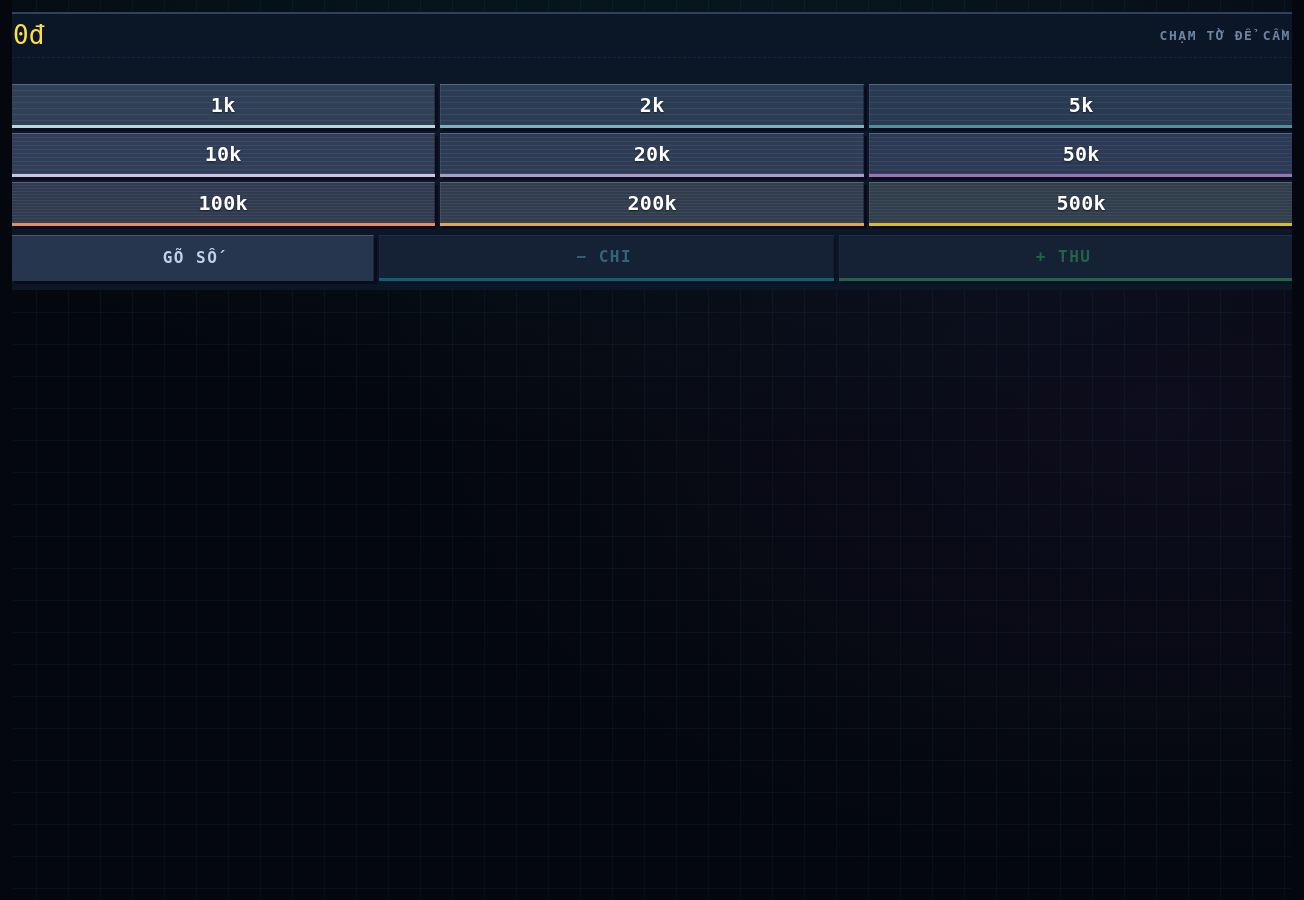
Scenario: §III — ⭐⭐ bàn phím: MỘT cửa gõ tay › ⭐⭐ ĐÓNG bàn phím thì CHỐT số đang gõ vào khay
Click the button titled "Chạm để gõ số" at (193, 258), box [11, 235, 374, 281]
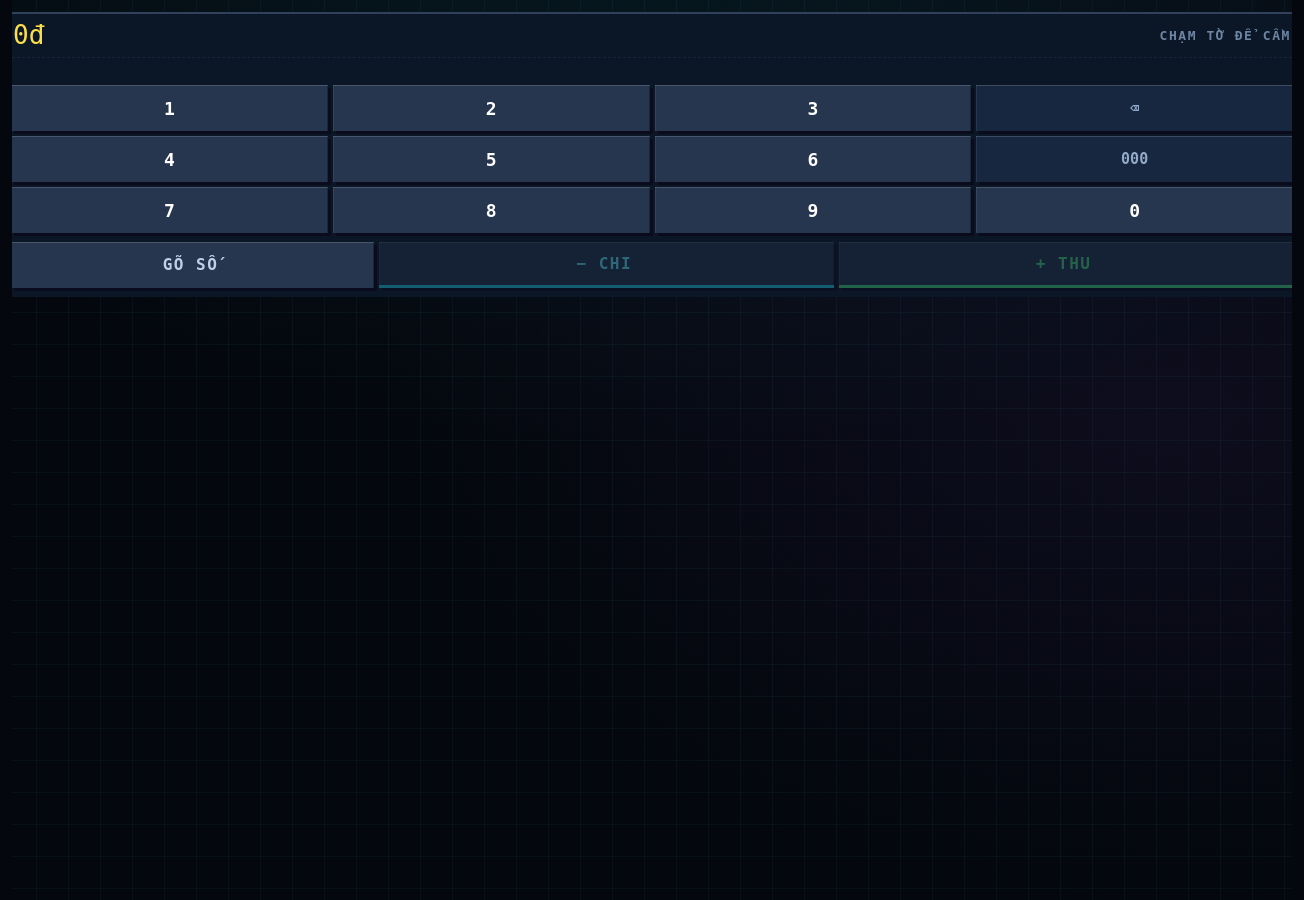
Click the button "5" at (491, 159), box [333, 136, 650, 182]
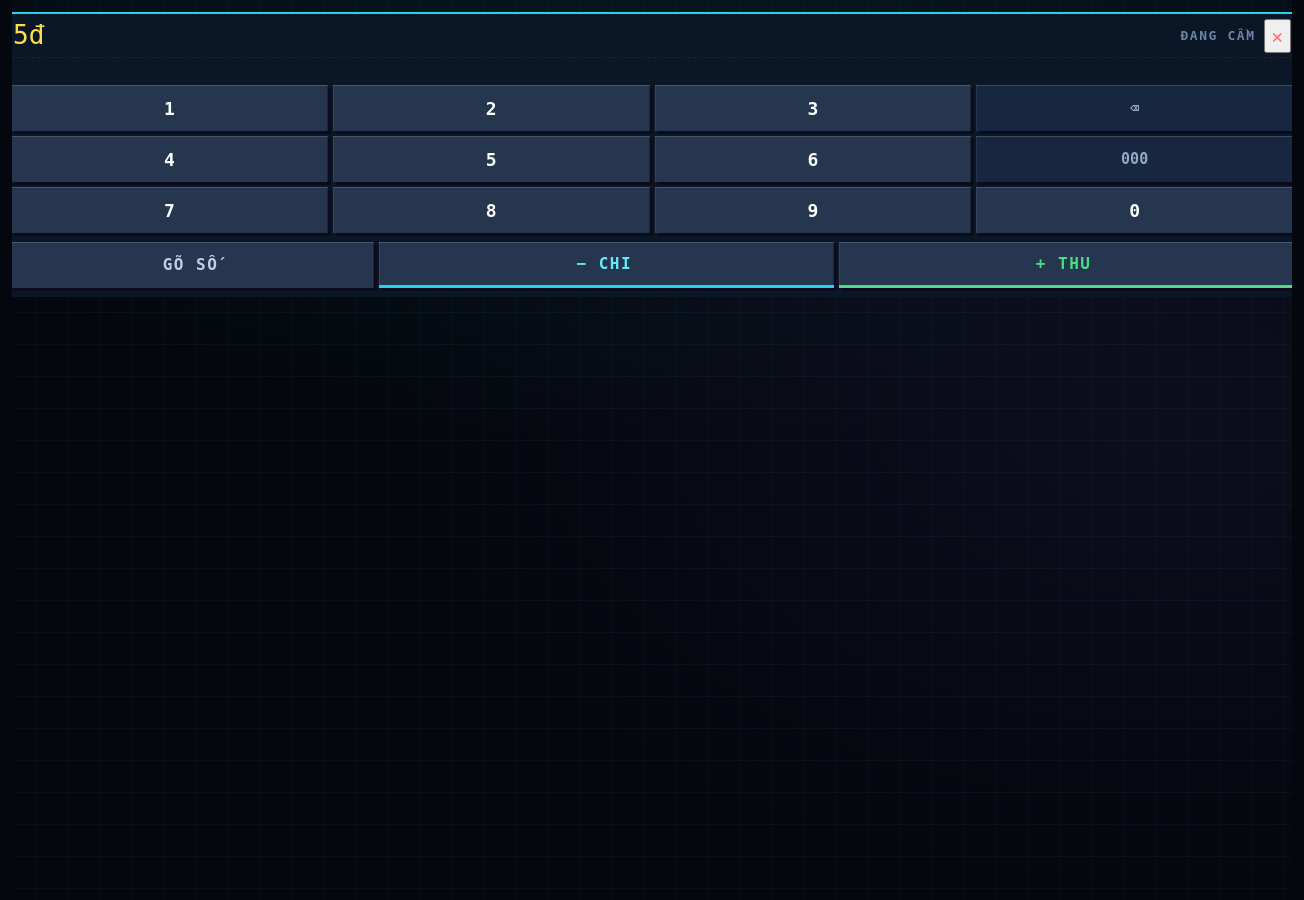
Click the button titled "Chạm để gõ số" at (193, 265), box [11, 242, 374, 288]
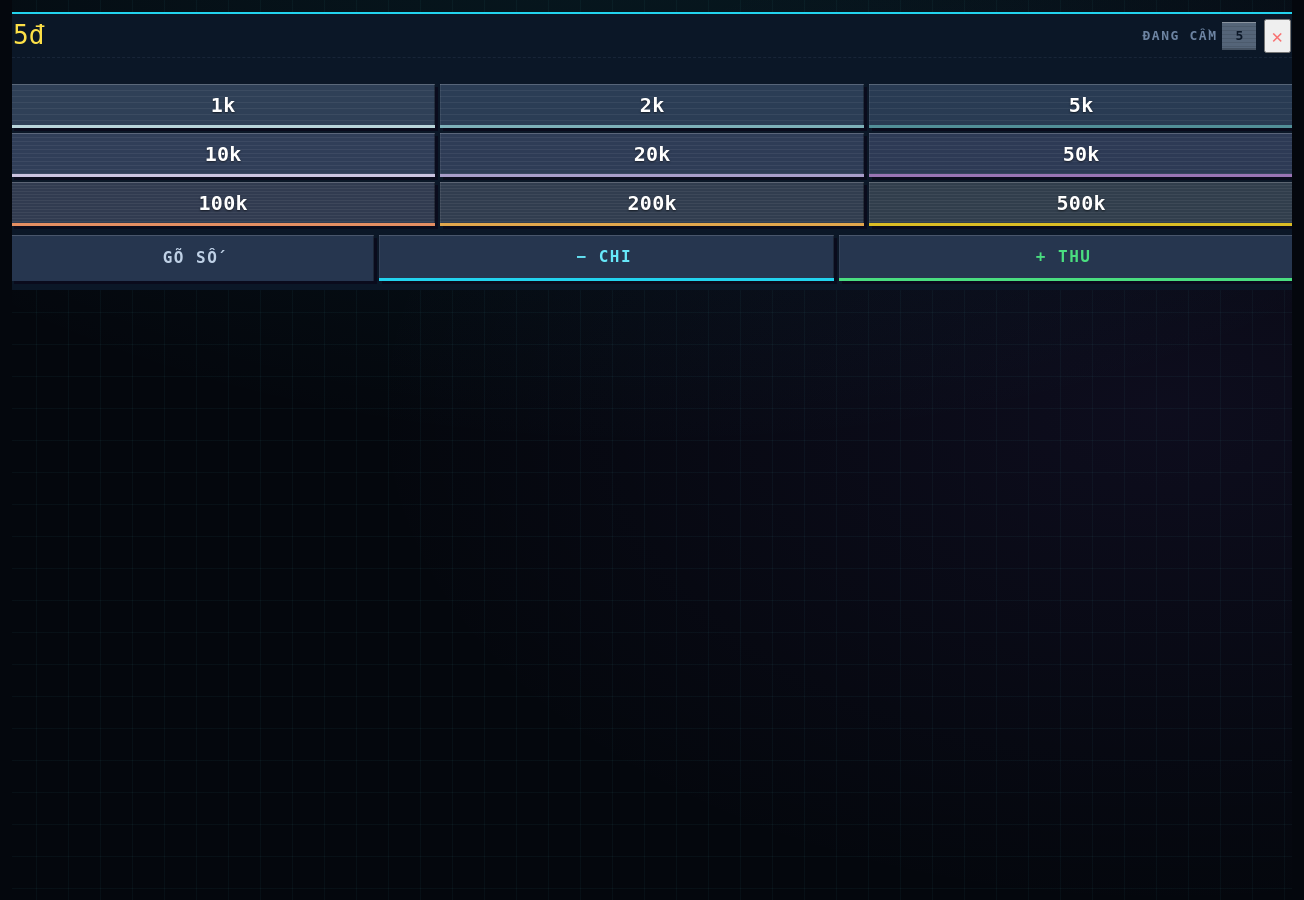
Result: the button titled "Bỏ một tờ 5" is shown at [1222, 22, 1256, 50]
